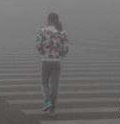person: (35, 12, 68, 116)
